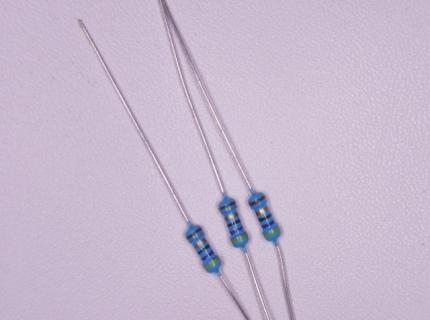Black band: (197, 244, 210, 255), (227, 219, 241, 228), (259, 213, 272, 222)
Brown band: (186, 227, 202, 240), (249, 195, 265, 206), (220, 202, 236, 211)
Gold band: (193, 238, 207, 249), (255, 206, 269, 216), (225, 212, 238, 221)
Violet band: (201, 250, 214, 262), (230, 225, 243, 235), (261, 220, 275, 229)
Yellow band: (204, 257, 221, 270), (263, 226, 280, 238), (231, 234, 248, 244)
